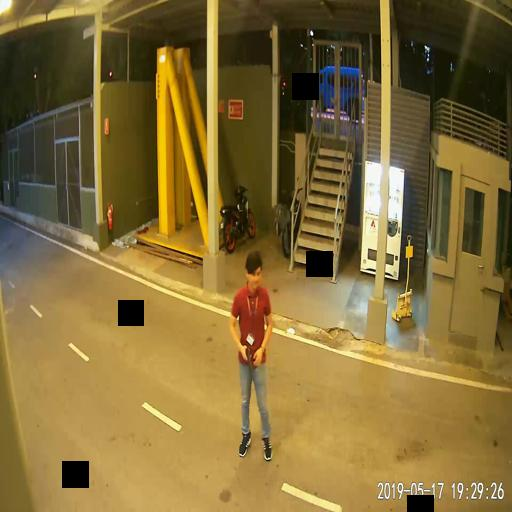Handgun: (241, 345, 252, 375)
